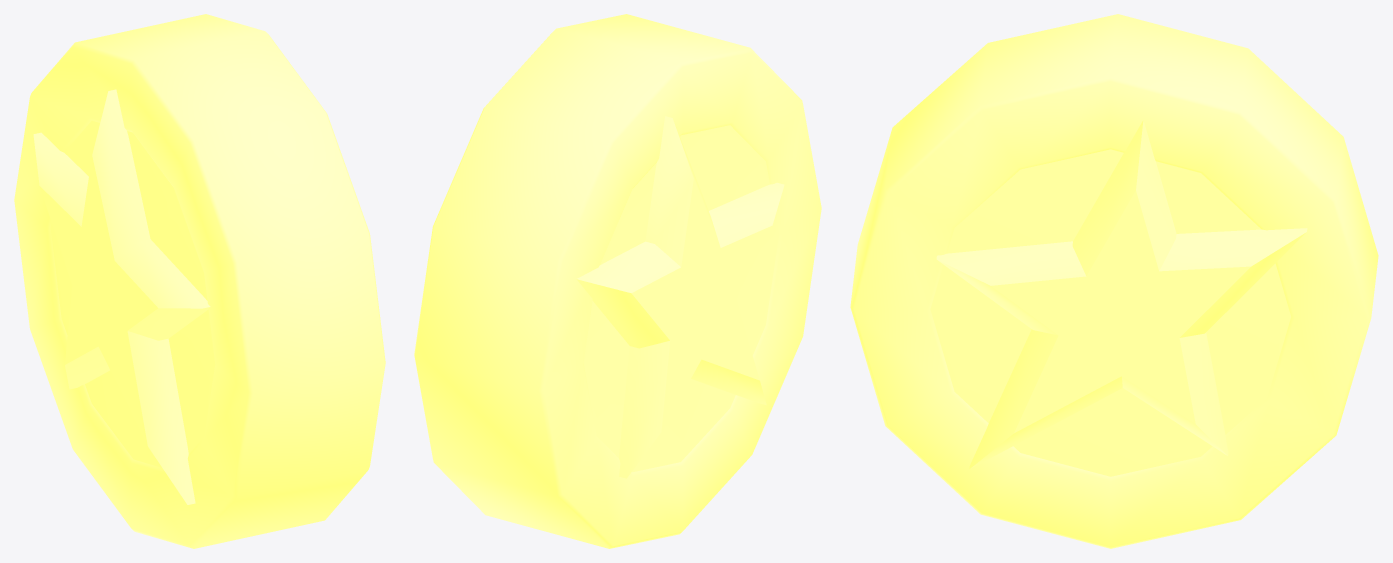
Rendered from coin.fbx.
The picture shows the model from 3 angles, left to right: view 1: azimuth 30°, elevation 25°; view 2: azimuth 150°, elevation 25°; view 3: azimuth 270°, elevation 25°; orthographic projection.
Visible parts, largest first — view 1: coin; view 2: coin; view 3: coin.
Boxes of the visible parts, x1,y1,x2,y2 form: coin: (14,14,385,548); coin: (414,14,821,548); coin: (850,14,1378,548).
Bounding box in the file's own units: 0.3135 × 0.7176 × 0.7267.
